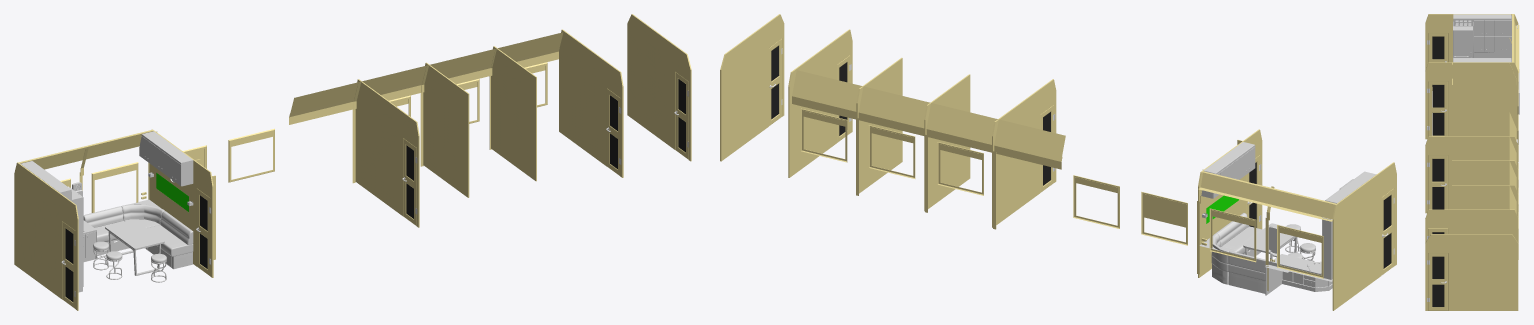
File: viks_inside.fbx
3 views of the same model, side by side, from view 1: azimuth 30°, elevation 25°; view 2: azimuth 150°, elevation 25°; view 3: azimuth 270°, elevation 25° (orthographic). The views are drawn at different scales.
Parts seen in each view (by area): view 1: peregorodka, pere, Cube_8_2, peregorodka_2_2, Cube_9_2, kitchen1_3, Null_2_4, Cube_28, Null_1_3, Null_9_2, door, door_1_2 (+11 smaller); view 2: peregorodka, Cube_8_2, pere, kitchen1_3, Cube_9_2, peregorodka_2_2, Cube_8, Null_2_4, Null_1_3, Cube_29, Null_9_2, door_1_2 (+13 smaller); view 3: peregorodka, peregorodka_2_2, pere, door_1, door_3, Cube_3, Cube, Cube_12, door, Cube_8_2, kitchen1_1, kitchen1_3 (+18 smaller).
Boxes of the visible parts, x1=… form: peregorodka: x1=355, y1=14, x2=691, y2=227; pere: x1=14, y1=162, x2=78, y2=310; Cube_8_2: x1=290, y1=32, x2=563, y2=113; peregorodka_2_2: x1=149, y1=129, x2=215, y2=277; Cube_9_2: x1=289, y1=48, x2=559, y2=124; kitchen1_3: x1=19, y1=130, x2=152, y2=169; Null_2_4: x1=147, y1=211, x2=193, y2=256; Cube_28: x1=105, y1=220, x2=164, y2=250; Null_1_3: x1=83, y1=206, x2=124, y2=241; Null_9_2: x1=121, y1=204, x2=164, y2=248; door: x1=403, y1=138, x2=416, y2=225; door_1_2: x1=62, y1=221, x2=75, y2=308; peregorodka: x1=720, y1=14, x2=1056, y2=227; Cube_8_2: x1=792, y1=70, x2=1065, y2=160; pere: x1=1332, y1=162, x2=1396, y2=310; kitchen1_3: x1=1198, y1=171, x2=1336, y2=221; Cube_9_2: x1=792, y1=95, x2=1062, y2=169; peregorodka_2_2: x1=1198, y1=129, x2=1262, y2=277; Cube_8: x1=1143, y1=193, x2=1186, y2=227; Null_2_4: x1=1216, y1=213, x2=1262, y2=253; Null_1_3: x1=1228, y1=251, x2=1265, y2=280; Cube_29: x1=1268, y1=217, x2=1332, y2=279; Null_9_2: x1=1211, y1=233, x2=1237, y2=284; door_1_2: x1=1381, y1=188, x2=1394, y2=275; peregorodka: x1=1425, y1=136, x2=1518, y2=310; peregorodka_2_2: x1=1425, y1=62, x2=1518, y2=139; pere: x1=1425, y1=14, x2=1518, y2=70; door_1: x1=1428, y1=253, x2=1447, y2=310; door_3: x1=1428, y1=81, x2=1447, y2=136; Cube_3: x1=1432, y1=256, x2=1444, y2=307; Cube: x1=1432, y1=159, x2=1444, y2=209; Cube_12: x1=1432, y1=85, x2=1444, y2=135; door: x1=1428, y1=155, x2=1447, y2=209; Cube_8_2: x1=1509, y1=112, x2=1516, y2=213; kitchen1_1: x1=1453, y1=30, x2=1472, y2=55; kitchen1_3: x1=1512, y1=14, x2=1519, y2=72.
Size of the model in its own units: 1641 by 267 by 295.
